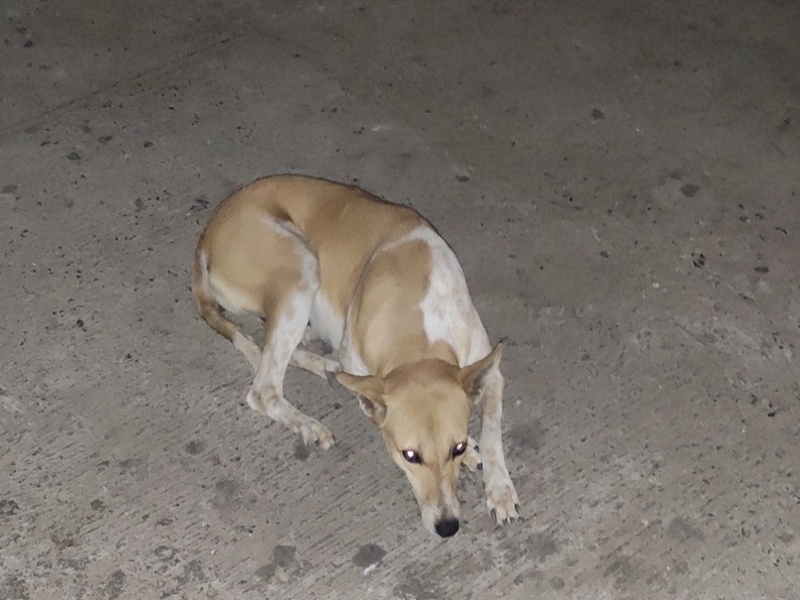dog: (189, 166, 526, 551)
